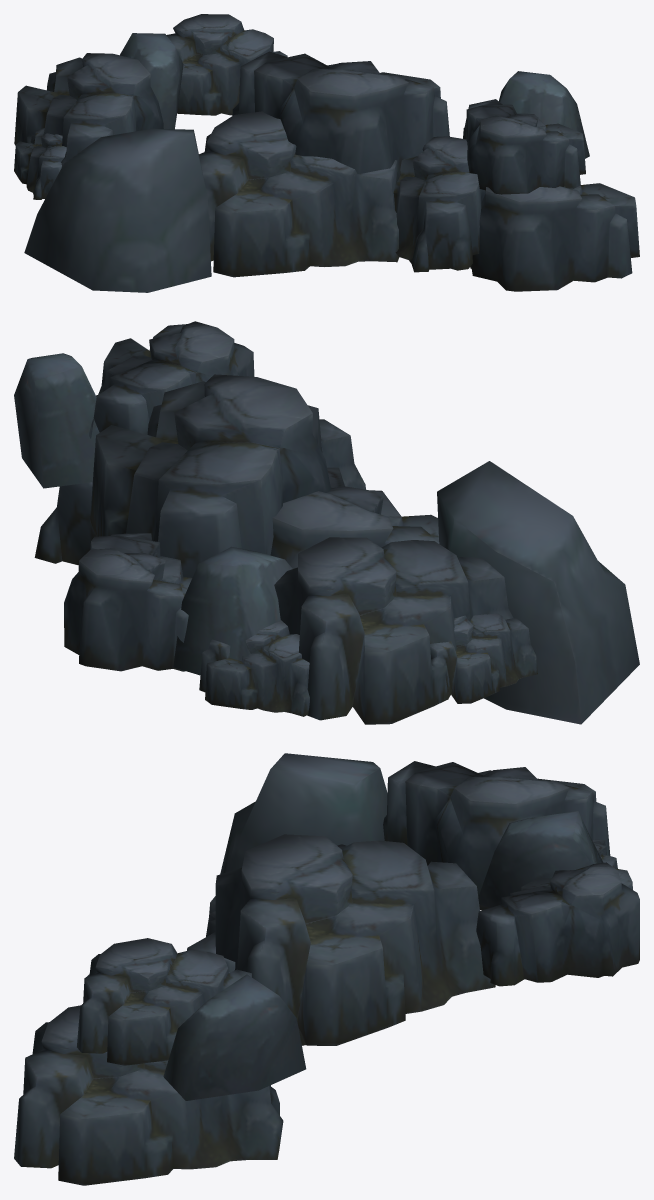
The model's file is Area_08_19.fbx.
3 views of the same model, one above another, from view 1: azimuth 30°, elevation 25°; view 2: azimuth 150°, elevation 25°; view 3: azimuth 270°, elevation 25° (orthographic). The views are drawn at different scales.
Parts seen in each view (by area): view 1: Area_08_19; view 2: Area_08_19; view 3: Area_08_19.
Part boxes in pixels (<box>): Area_08_19: <box>14,14,639,292</box>; Area_08_19: <box>14,321,639,724</box>; Area_08_19: <box>14,753,639,1185</box>.
Size of the model in its own units: 4198 by 1295 by 3691.
